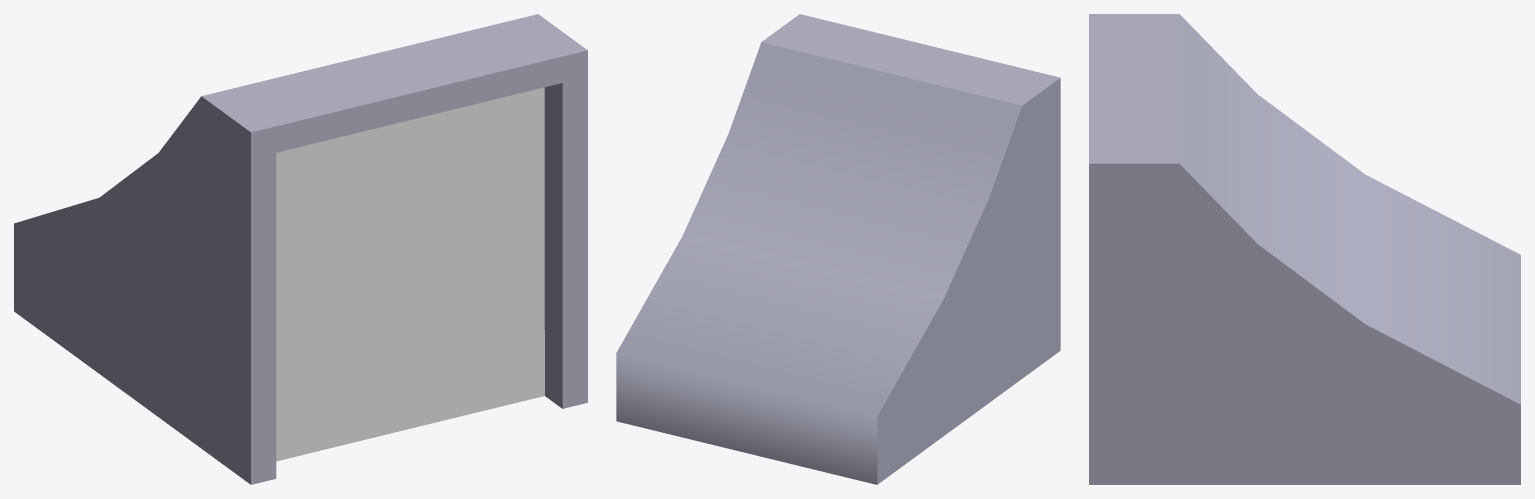
The model's file is Entrance.fbx.
The picture shows the model from 3 angles, left to right: view 1: azimuth 30°, elevation 25°; view 2: azimuth 150°, elevation 25°; view 3: azimuth 270°, elevation 25°; orthographic projection. The views are drawn at different scales.
Parts seen in each view (by area): view 1: Entrance; view 2: Entrance; view 3: Entrance.
Boxes of the visible parts, x1,y1,x2,y2 form: Entrance: (14,14,587,484); Entrance: (616,14,1060,484); Entrance: (1089,14,1520,484).
Bounding box in the file's own units: 4.7 × 4.7 × 5.73.
